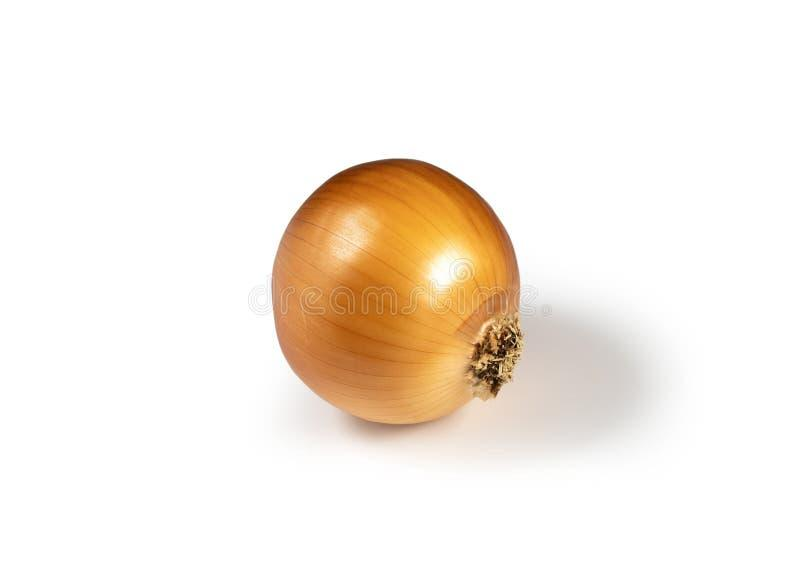Onion: (272, 159, 520, 424)
